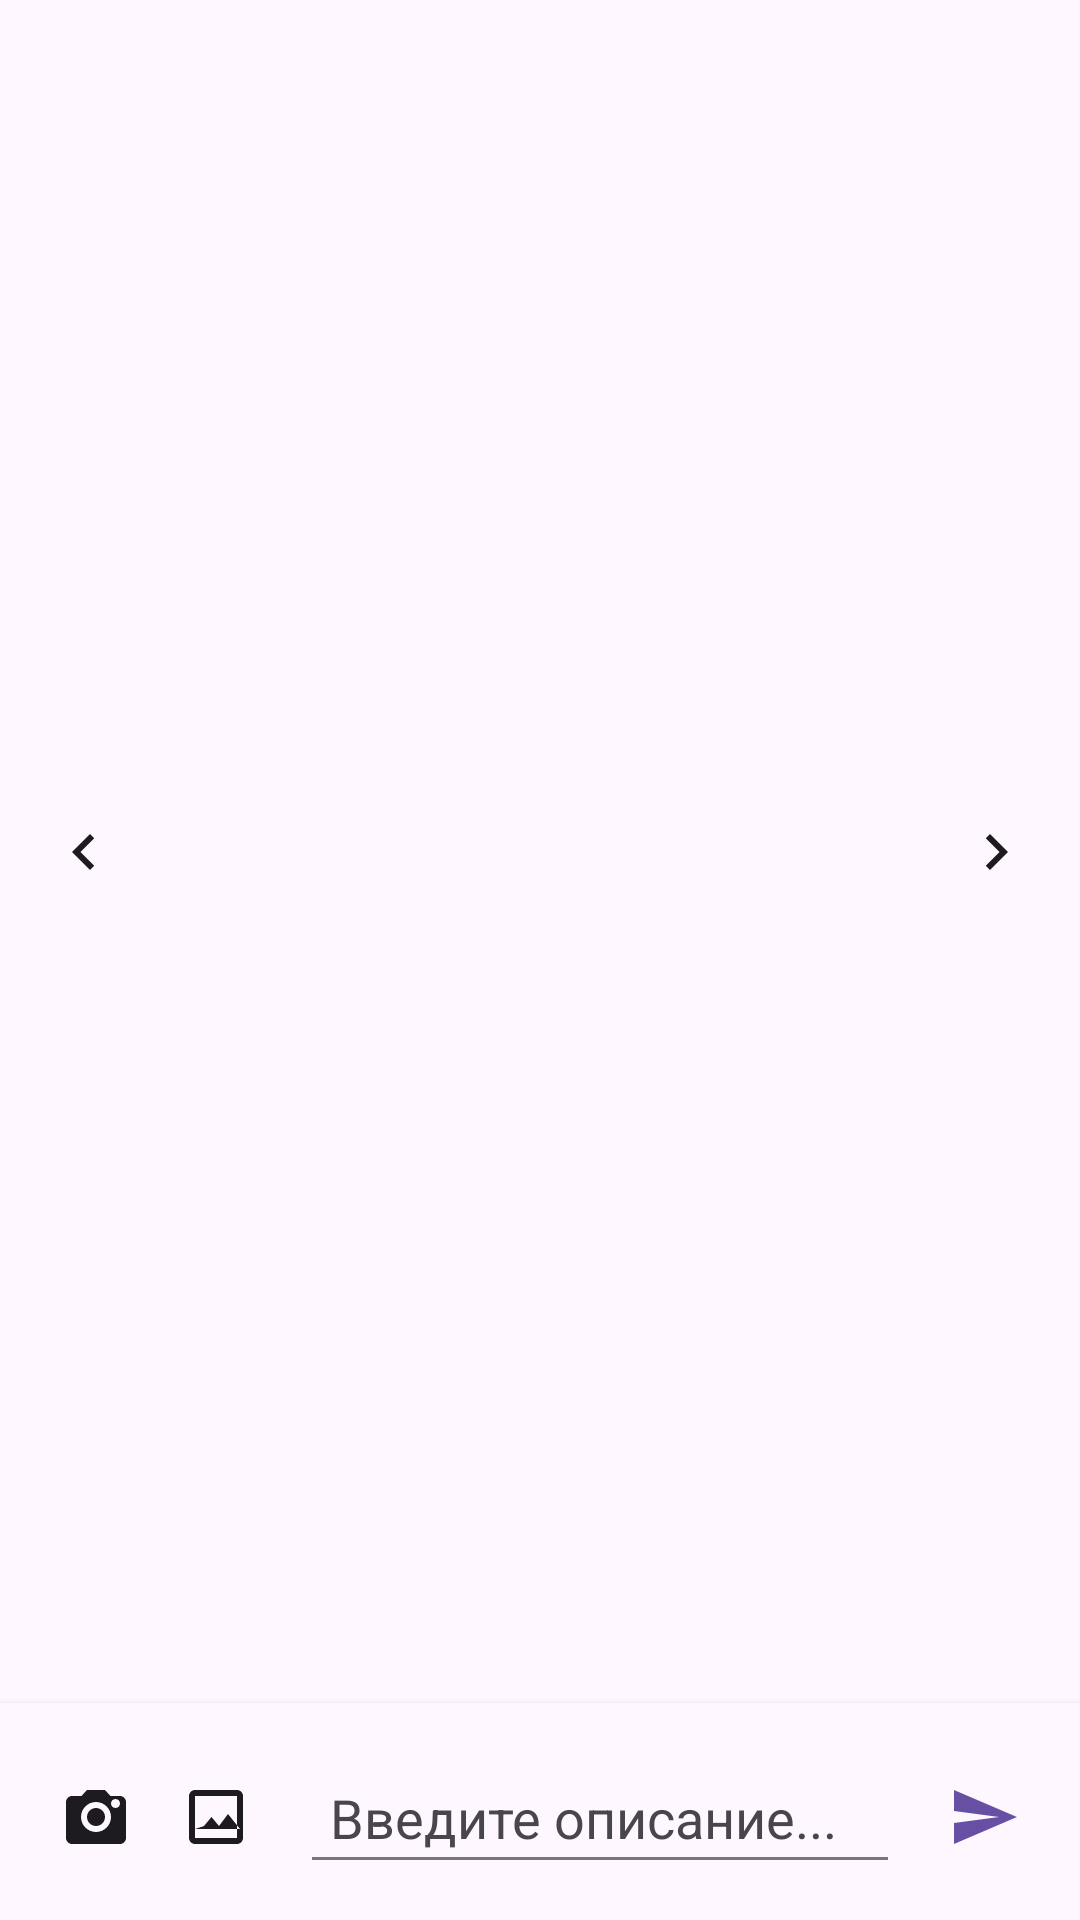

Icons on this 1080x1920 Android screen, each with the point to tap as [x,y]:
arrow left: [83,852]
arrow right: [997,852]
Выбрать изображение: [216,1817]
Сгенерировать: [985,1817]
Сделать фото: [96,1817]
